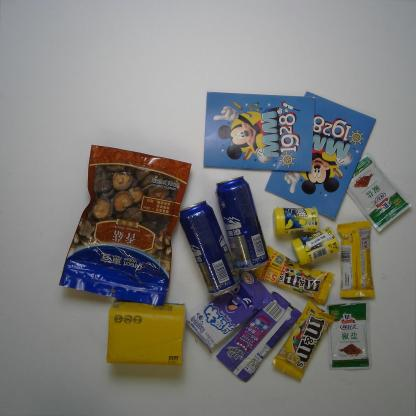Alcohol: (178, 198, 241, 298), (214, 174, 270, 274)
Candy: (215, 292, 302, 382), (184, 269, 274, 354)
Chocolate: (271, 299, 338, 382), (254, 245, 336, 306), (336, 220, 374, 300)
Dried Food: (58, 144, 193, 306)
Gum: (289, 225, 342, 266), (272, 206, 320, 236)
Seasoner: (344, 153, 413, 234), (326, 301, 371, 371)
Stationery: (264, 91, 377, 221), (203, 92, 315, 173)
Tissue: (106, 298, 188, 368)
